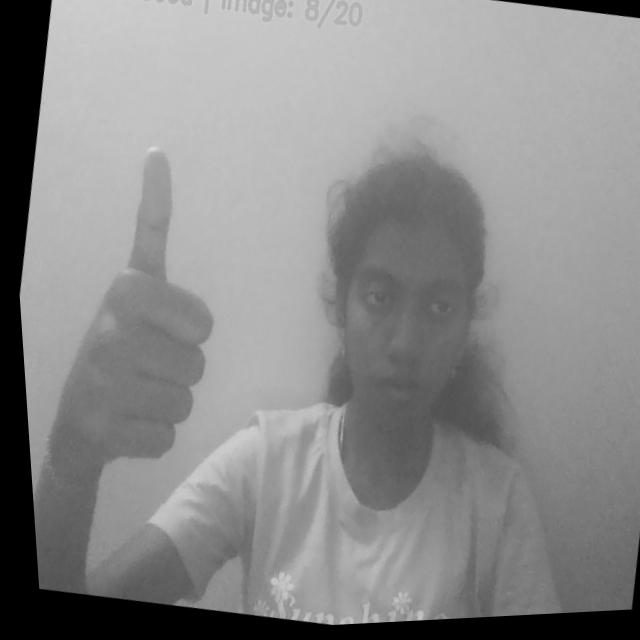Good: (20, 127, 249, 484)
